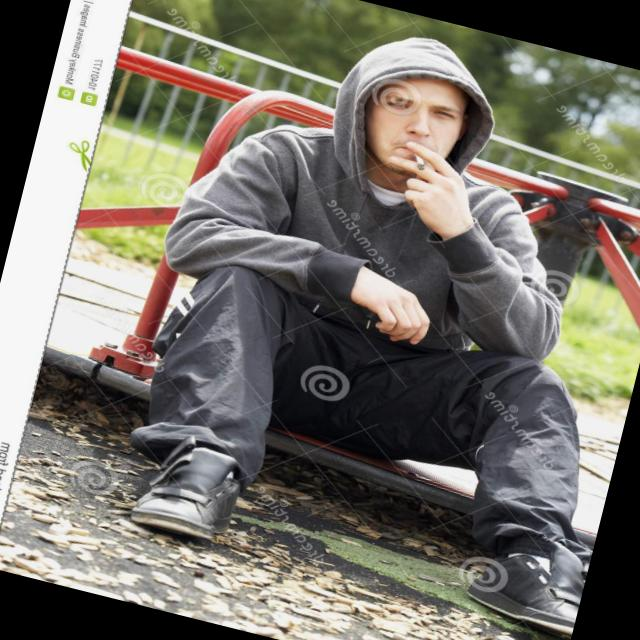cigarette: (388, 134, 436, 184)
